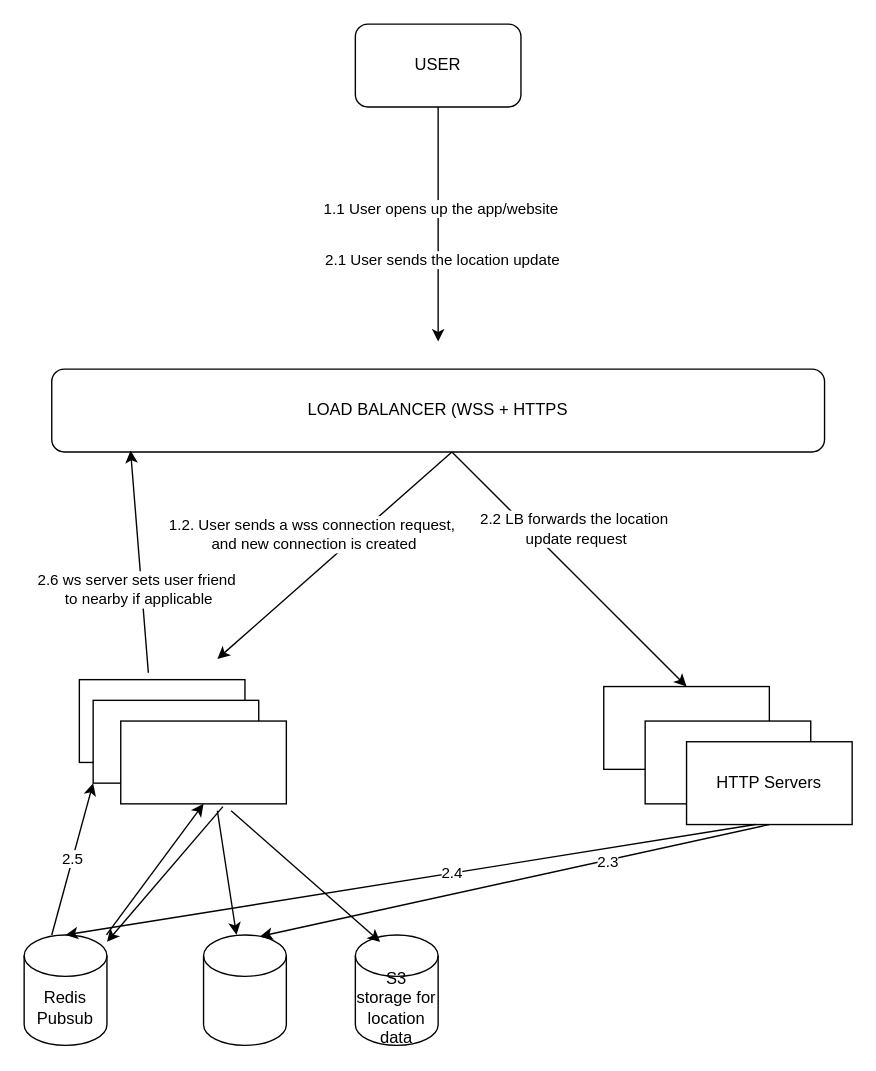
Some shapes in this 876 by 1071 pixel diagram are drawn without their labels. Each missing label, with the centre of its shape:
Redis DB for live location: point (244, 989)
Web Socket Servers: point (202, 762)
